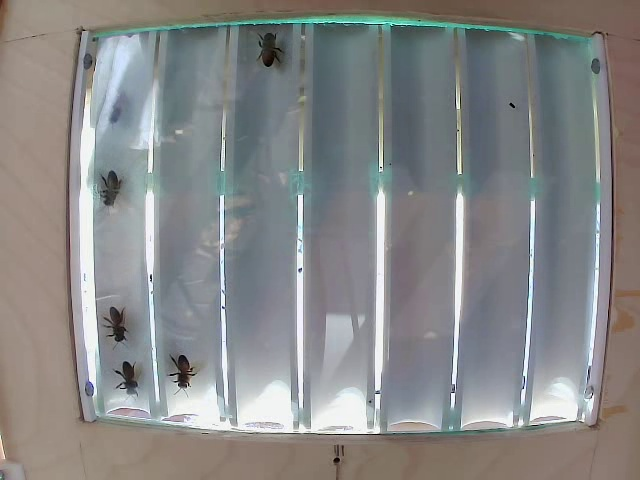bee: (95, 84, 142, 135), (108, 361, 145, 406), (90, 164, 124, 207), (162, 351, 197, 392), (94, 307, 133, 343), (252, 29, 285, 69)
